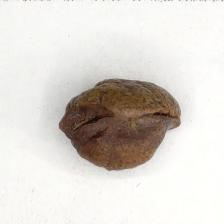NG: (60, 104, 181, 170)
